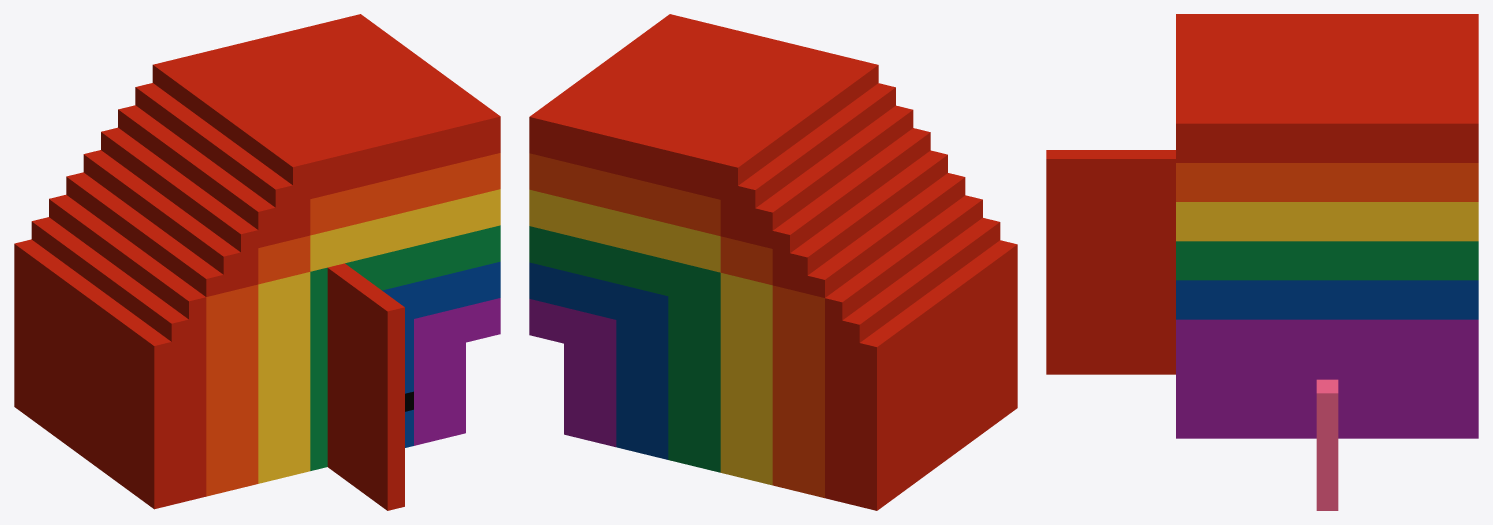
File: rainbow.glb
3 renders of one model, left to right at view 1: azimuth 30°, elevation 25°; view 2: azimuth 150°, elevation 25°; view 3: azimuth 270°, elevation 25°, orthographic. The views are drawn at different scales.
Parts seen in each view (by area): view 1: base, side; view 2: base; view 3: base, side, monture.
Part boxes in pixels (box(x1,y1,x2,y2)): base: box(14, 14, 500, 509); side: box(327, 263, 404, 510); base: box(529, 14, 1017, 510); base: box(1176, 14, 1478, 438); side: box(1046, 150, 1175, 374); monture: box(1316, 379, 1338, 510).
Size of the model in its own units: 20 by 20 by 20.
Materials: 12 (12 with a texture image).
